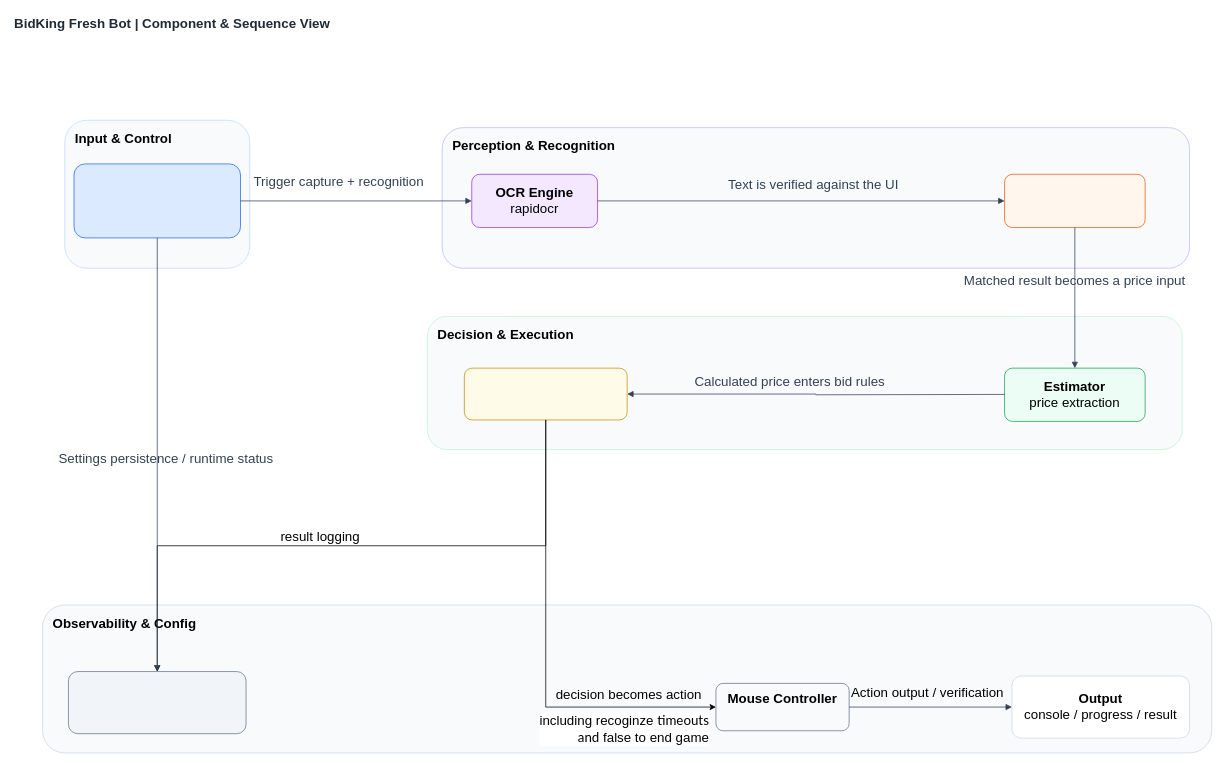
Some shapes in this 1225 by 766 pixel diagram are drawn without their labels. Each missing label, with the centre of its shape:
GUI Start / Stop / Parameters: (156,200)
Image Matcher template matching: (1074,201)
Logger & Config logs / config.json: (157,702)
Strategy Engine bid cap / thresholds: (545,393)
